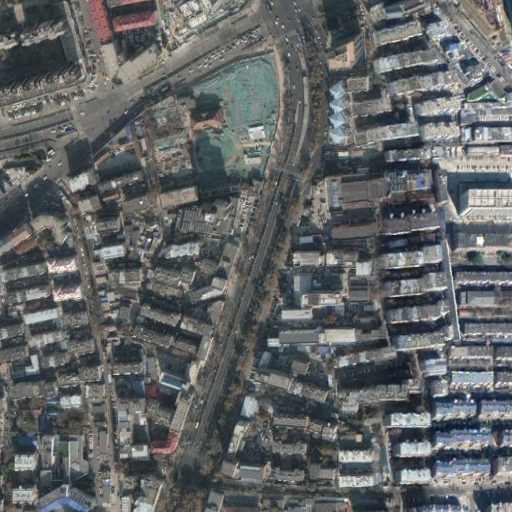cw: (189, 55, 283, 184)
